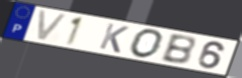1: (65, 16, 88, 48)
6: (196, 41, 227, 69)
B: (159, 33, 197, 66)
K: (97, 22, 131, 55)
O: (128, 28, 166, 60)
V: (35, 9, 70, 43)
